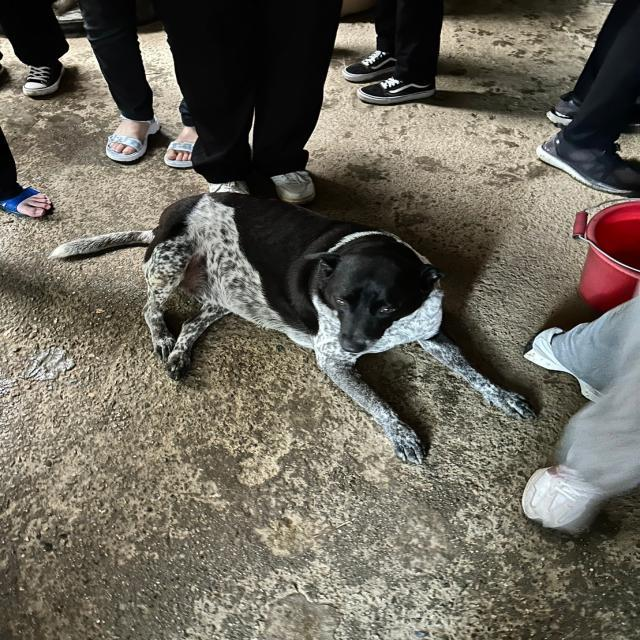adult_dog: (47, 190, 538, 467)
non-dog: (156, 1, 345, 204), (519, 292, 640, 535), (535, 1, 640, 199), (78, 0, 199, 170), (342, 1, 445, 107), (1, 0, 70, 100), (1, 127, 54, 220)
